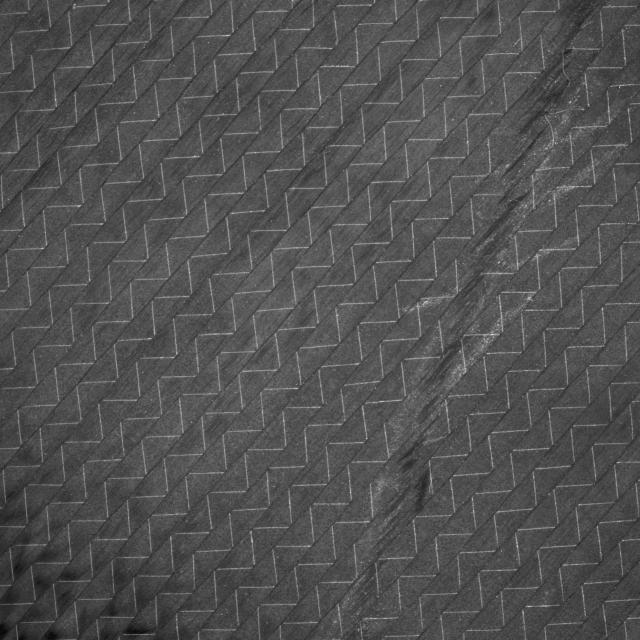carbon-fibre-defect: (364, 1, 604, 537)
